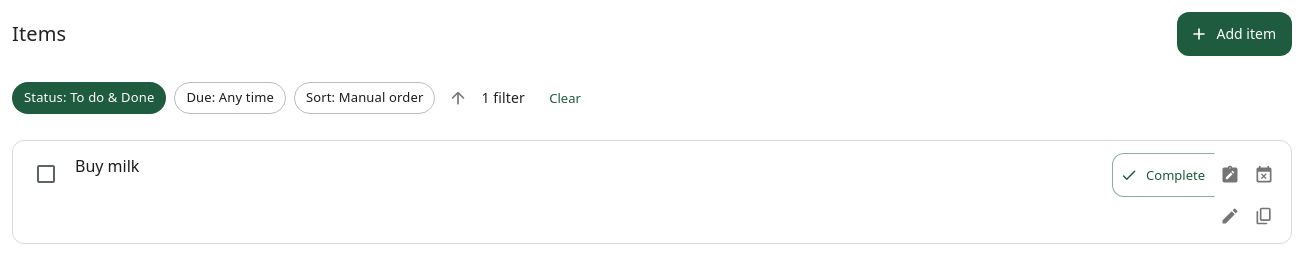
Test: ItemsSection › moves the row at once rather than after the round trip
This screenshot has width=1304, height=261.
Click the button with aria-label "Complete Buy milk": coordinates (1164, 175) [1112, 153, 1215, 197]
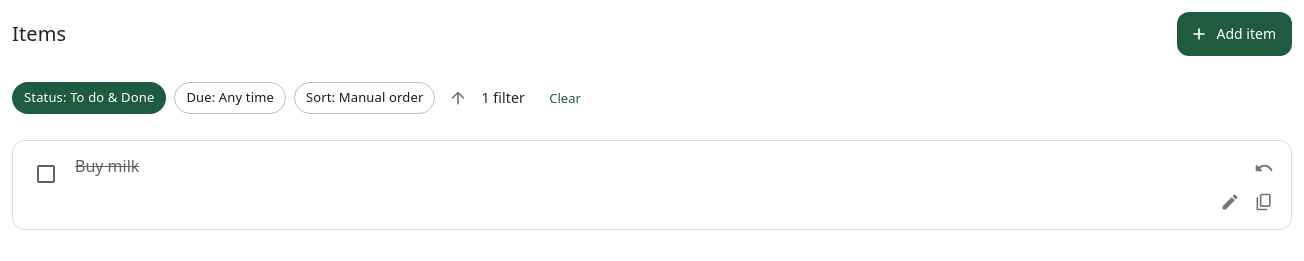
Expected: the button named "Reopen Buy milk" is shown, [1249, 153, 1279, 183]
